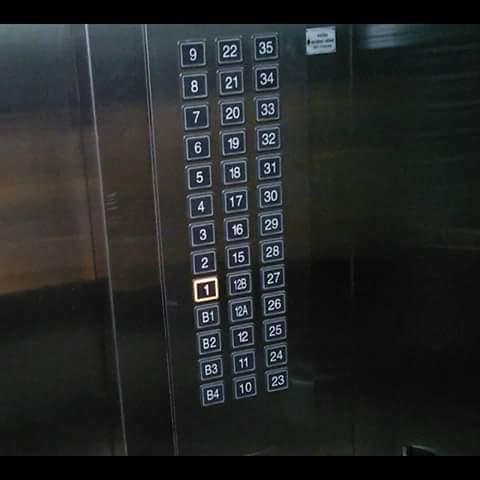1: (192, 276, 218, 302)
10: (232, 375, 257, 399)
11: (231, 350, 256, 374)
12: (230, 324, 255, 348)
12A: (228, 298, 253, 322)
12B: (226, 270, 252, 297)
15: (225, 243, 251, 270)
16: (223, 216, 249, 241)
17: (221, 187, 250, 214)
18: (221, 159, 250, 186)
19: (219, 129, 248, 157)
2: (191, 248, 217, 274)
20: (218, 100, 247, 128)
21: (216, 68, 245, 96)
22: (215, 37, 244, 65)
23: (265, 368, 290, 392)
24: (263, 343, 288, 367)
25: (263, 317, 288, 341)
26: (262, 291, 287, 315)
27: (261, 265, 286, 289)
28: (260, 237, 286, 264)
29: (258, 211, 284, 237)
3: (189, 222, 216, 249)
30: (257, 182, 284, 207)
31: (256, 154, 283, 179)
32: (255, 126, 282, 152)
33: (254, 96, 281, 122)
34: (254, 65, 281, 91)
35: (253, 32, 279, 60)
4: (187, 193, 214, 220)
5: (185, 163, 213, 190)
6: (184, 134, 212, 161)
7: (182, 103, 210, 130)
8: (180, 72, 209, 100)
9: (178, 40, 207, 68)
B1: (195, 302, 221, 328)
B2: (197, 329, 223, 355)
B3: (198, 356, 224, 382)
B4: (199, 381, 225, 407)
